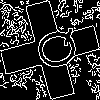Q: (25, 25, 82, 75)
